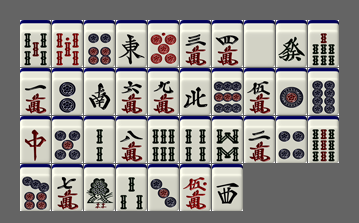0m: (180, 164, 211, 211)
0p: (148, 20, 179, 67)
0s: (52, 20, 83, 67)
1m: (20, 68, 51, 115)
1p: (276, 68, 307, 115)
1s: (84, 164, 115, 211)
1z: (116, 20, 147, 67)
2m: (244, 116, 275, 163)
2p: (52, 68, 83, 115)
2s: (84, 116, 115, 163)
2z: (84, 68, 115, 115)
3m: (180, 20, 211, 67)
3p: (148, 164, 179, 211)
3s: (116, 164, 147, 211)
3z: (212, 164, 243, 211)
4m: (212, 20, 243, 67)
4p: (276, 116, 307, 163)
4s: (180, 116, 211, 163)
4z: (180, 68, 211, 115)
5m: (244, 68, 275, 115)
5p: (52, 116, 83, 163)
5s: (20, 20, 51, 67)
5z: (244, 20, 275, 67)
6m: (116, 68, 147, 115)
6p: (84, 20, 115, 67)
6s: (148, 116, 179, 163)
6z: (276, 20, 307, 67)
7m: (52, 164, 83, 211)
7p: (20, 164, 51, 211)
7s: (308, 20, 339, 67)
7z: (20, 116, 51, 163)
8m: (116, 116, 147, 163)
8p: (308, 68, 339, 115)
8s: (212, 116, 243, 163)
9m: (148, 68, 179, 115)
9p: (212, 68, 243, 115)
9s: (308, 116, 339, 163)
